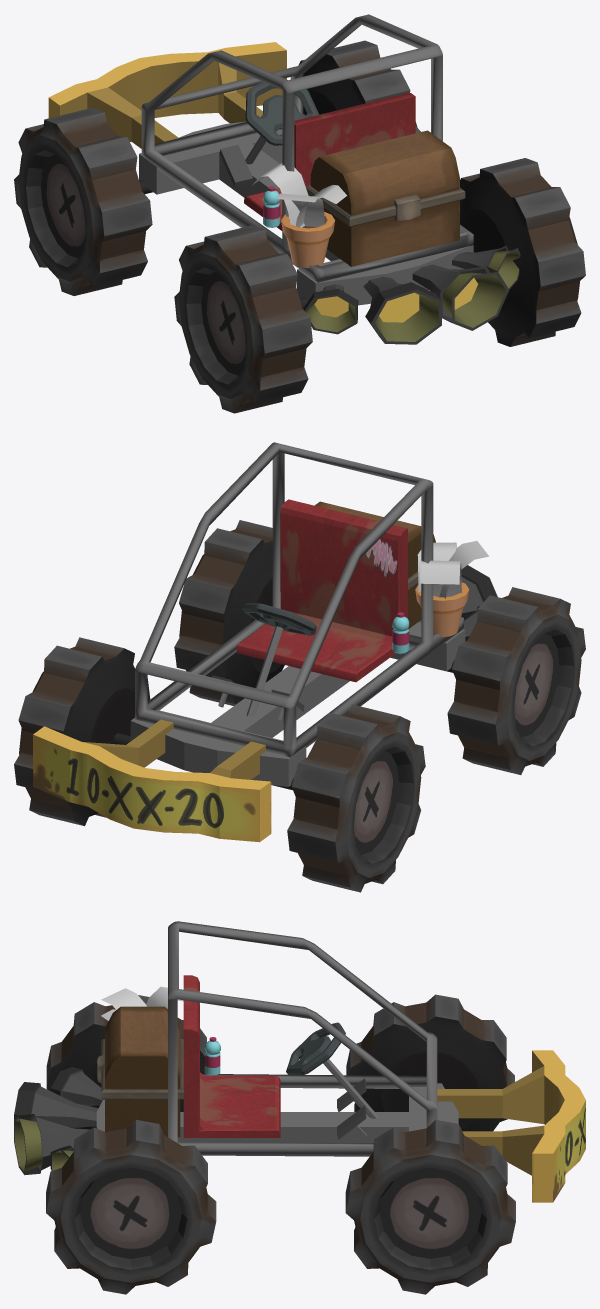
Rendered from standart_car (1).fbx.
The picture shows the model from 3 angles, top to bottom: view 1: azimuth 30°, elevation 25°; view 2: azimuth 150°, elevation 25°; view 3: azimuth 270°, elevation 25°; orthographic projection. The views are drawn at different scales.
Visible parts, largest first — view 1: Wheel_BL, Wheel_FL, Chest, Metalbars, Wheel_BR, Bumper, Motor, Chair, Pipe_2, Pipe_1, Wheel_FR, Plant (+6 smaller); view 2: Metalbars, Wheel_BL, Wheel_FL, Chair, Bumper, Wheel_FR, Wheel_BR, Motor, Plant, Steering_Wheel, Chest, Flower Pot (+2 smaller); view 3: Wheel_FR, Wheel_BR, Metalbars, Wheel_FL, Bumper, Chest, Chair, Motor, Wheel_BL, Pipe_2, Pipe_1, Steering_Wheel (+4 smaller).
Boxes of the visible parts, x1=… form: Wheel_BL: x1=174, y1=225, x2=312, y2=413; Wheel_FL: x1=14, y1=107, x2=152, y2=295; Chest: x1=306, y1=130, x2=465, y2=266; Metalbars: x1=141, y1=14, x2=473, y2=282; Wheel_BR: x1=460, y1=158, x2=585, y2=346; Bumper: x1=48, y1=42, x2=286, y2=148; Motor: x1=139, y1=121, x2=473, y2=305; Chair: x1=244, y1=93, x2=415, y2=230; Pipe_2: x1=412, y1=264, x2=508, y2=330; Pipe_1: x1=363, y1=276, x2=441, y2=344; Wheel_FR: x1=299, y1=40, x2=420, y2=133; Plant: x1=251, y1=163, x2=346, y2=227; Metalbars: x1=135, y1=442, x2=463, y2=757; Wheel_BL: x1=447, y1=587, x2=585, y2=774; Wheel_FL: x1=287, y1=704, x2=425, y2=892; Chair: x1=236, y1=499, x2=407, y2=682; Bumper: x1=33, y1=719, x2=271, y2=842; Wheel_FR: x1=14, y1=637, x2=150, y2=826; Wheel_BR: x1=174, y1=520, x2=284, y2=705; Motor: x1=130, y1=622, x2=465, y2=786; Plant: x1=417, y1=541, x2=489, y2=601; Steering_Wheel: x1=242, y1=603, x2=316, y2=716; Chest: x1=315, y1=501, x2=435, y2=628; Flower Pot: x1=415, y1=582, x2=469, y2=637; Wheel_FR: x1=345, y1=1120, x2=515, y2=1294; Wheel_BR: x1=46, y1=1120, x2=216, y2=1294; Metalbars: x1=168, y1=921, x2=437, y2=1156; Wheel_FL: x1=346, y1=994, x2=514, y2=1131; Bumper: x1=437, y1=1050, x2=585, y2=1202; Chest: x1=97, y1=1006, x2=183, y2=1137; Chair: x1=183, y1=975, x2=280, y2=1137; Motor: x1=96, y1=1083, x2=458, y2=1143; Wheel_BL: x1=46, y1=995, x2=206, y2=1129; Pipe_2: x1=14, y1=1114, x2=89, y2=1175; Pipe_1: x1=14, y1=1082, x2=98, y2=1128; Steering_Wheel: x1=286, y1=1022, x2=378, y2=1118.
Size of the model in its own units: 2.38 by 3.86 by 1.99.
